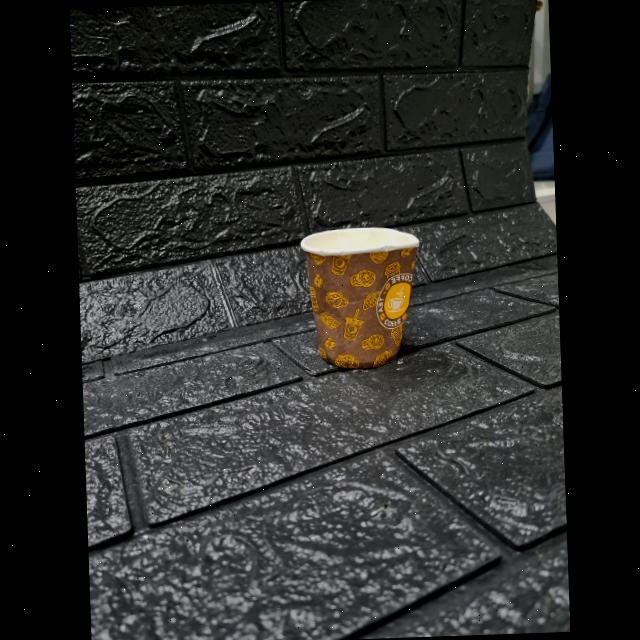trash: (294, 218, 422, 374)
